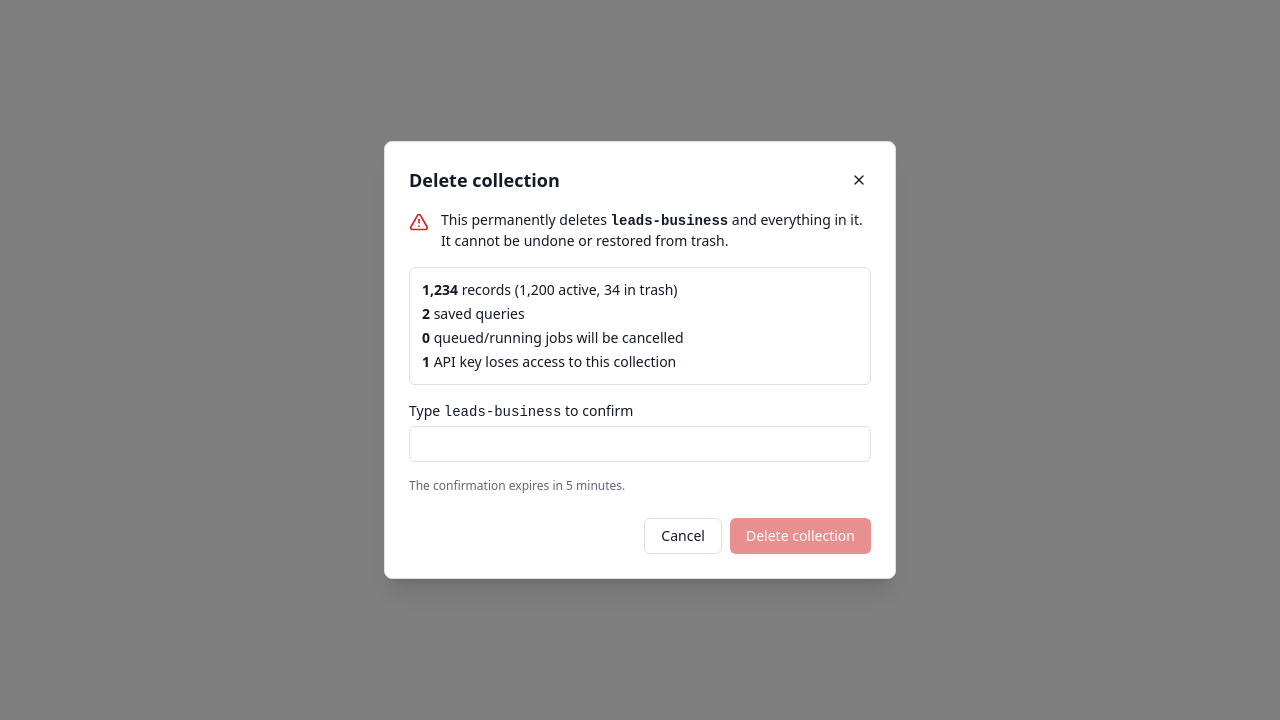
Test: DeleteCollectionDialog › prepares, shows counts, and requires the exact slug before deleting
Later steps or results of the test are not shown.
Expected: the list item with test id "count-records" is shown, 422,280 -> 678,299
Expected: the list item with test id "count-records" shows "1,234", 422,280 -> 458,299
Type "leads-business-v2" into the field labelled "Type leads-business to confirm" at (640, 444), box 409,426 -> 871,462
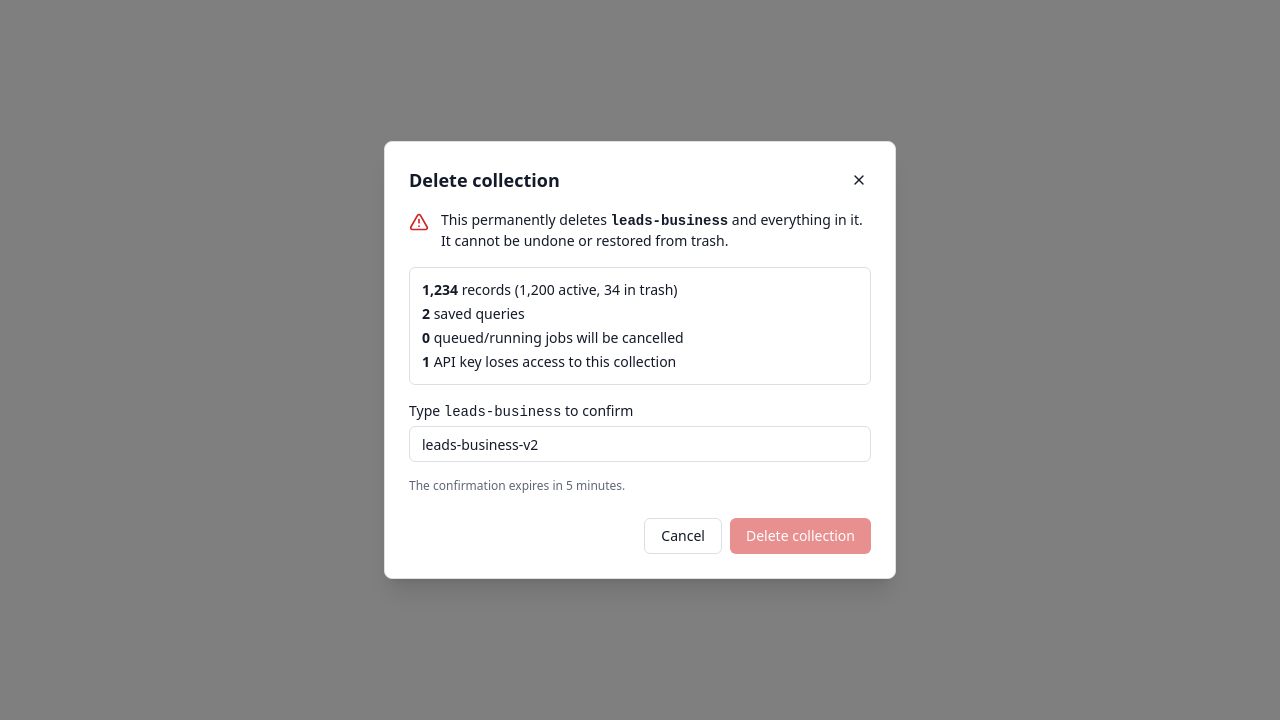
Expected: the button "Delete collection" is disabled, 730,518 -> 871,554
Replace the text in the field labelled "Type leads-business to confirm" with "leads-business" at (640, 444), box 409,426 -> 871,462
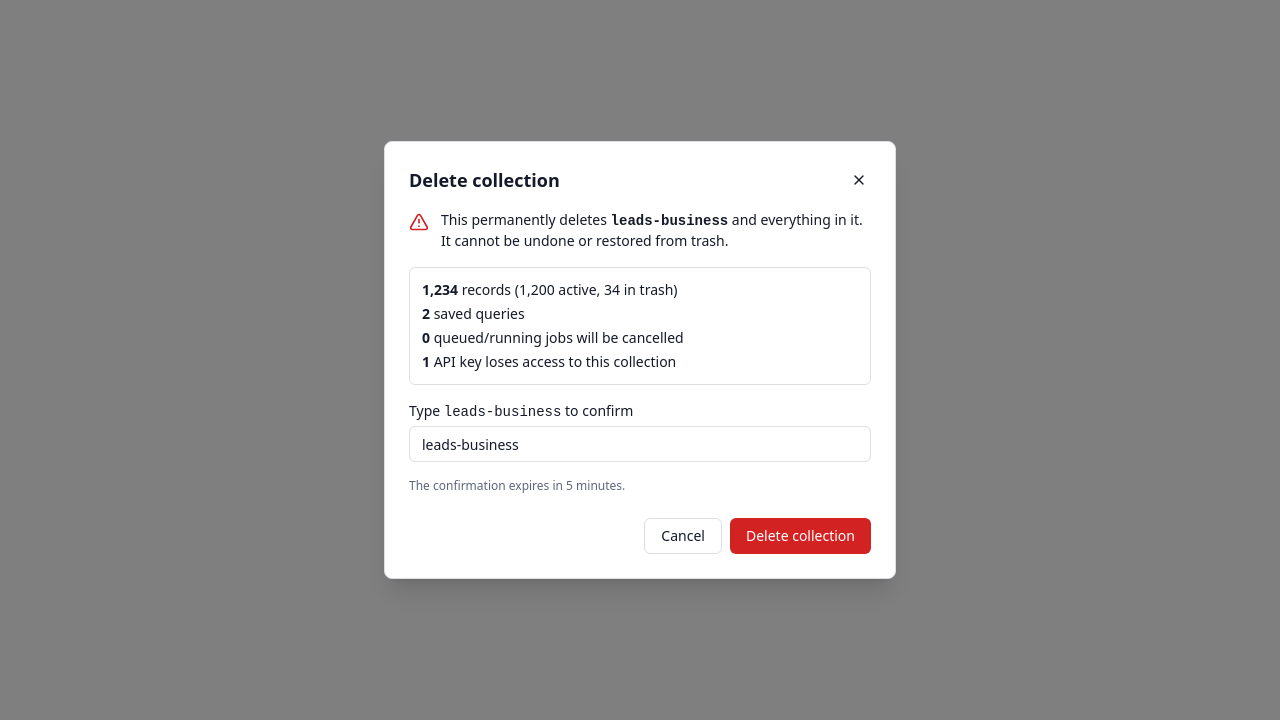
Expected: the button "Delete collection" is enabled, 730,518 -> 871,554
